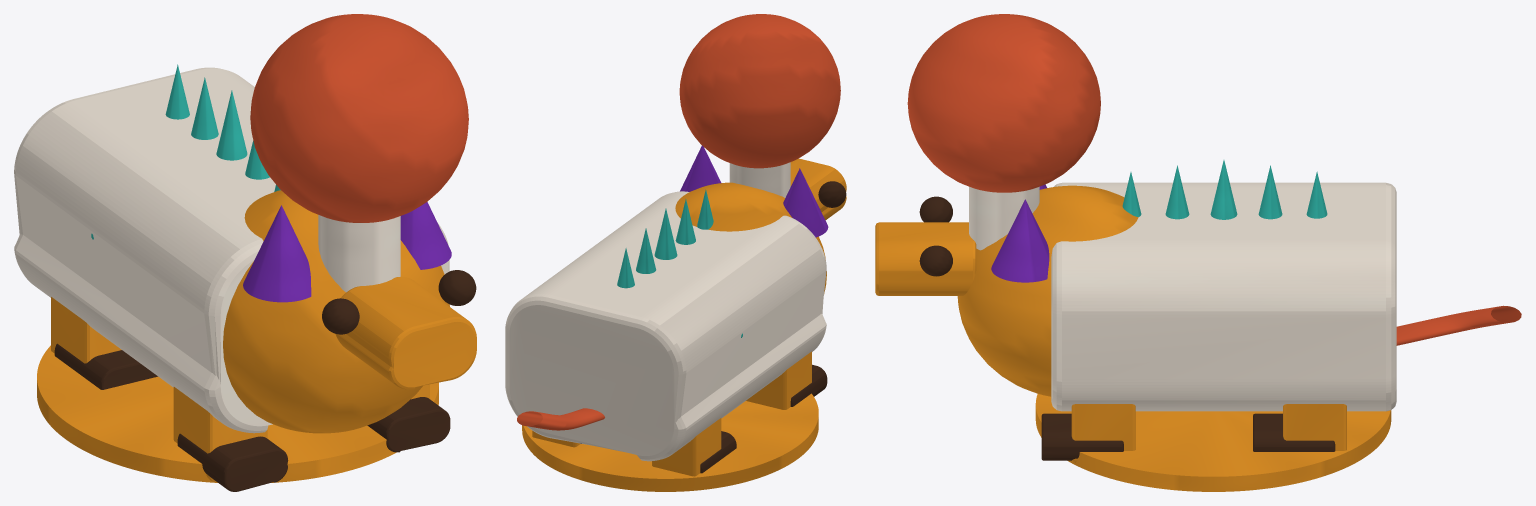
The model's file is 0841_两栖动物图鉴_东方铃蟾.glb.
3 renders of one model, left to right at view 1: azimuth 30°, elevation 25°; view 2: azimuth 150°, elevation 25°; view 3: azimuth 270°, elevation 25°, orthographic. The views are drawn at different scales.
Visible parts, largest first — view 1: card_0841; view 2: card_0841; view 3: card_0841.
Boxes of the visible parts, x1,y1,x2,y2 form: card_0841: (14, 14, 476, 491); card_0841: (505, 14, 846, 491); card_0841: (875, 14, 1521, 491).
Size of the model in its own units: 0.7768 by 1 by 1.47.
